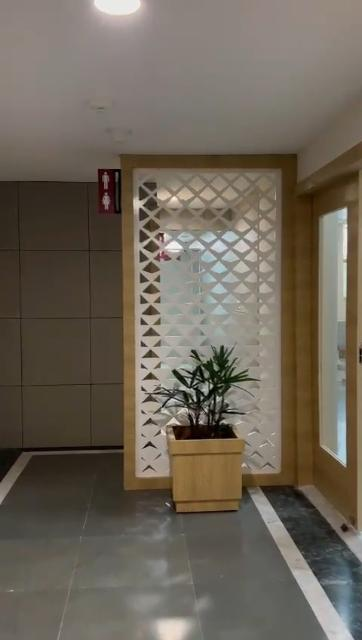door: (299, 172, 362, 511)
floor: (0, 452, 362, 640)
object: (161, 344, 257, 518)
